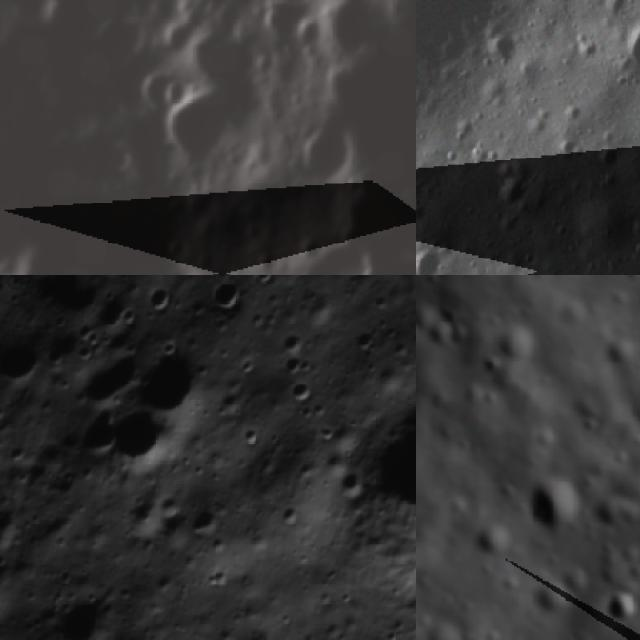crater: (334, 381, 416, 555), (416, 0, 560, 98), (123, 330, 228, 436), (92, 390, 188, 485), (163, 79, 248, 167), (33, 573, 133, 640), (289, 117, 362, 192), (576, 189, 640, 258), (0, 320, 51, 394), (251, 0, 328, 49), (524, 466, 584, 528), (79, 283, 140, 343), (178, 493, 232, 547), (490, 162, 539, 214), (202, 275, 253, 318), (140, 275, 184, 320), (274, 342, 317, 384), (615, 11, 640, 79), (281, 367, 322, 408), (272, 321, 312, 363), (599, 578, 639, 618), (484, 28, 522, 69), (554, 132, 588, 168), (593, 140, 627, 176), (522, 110, 556, 146), (594, 0, 640, 26), (568, 35, 602, 67), (416, 245, 448, 275), (244, 275, 284, 294), (416, 193, 433, 228), (443, 145, 460, 166)
